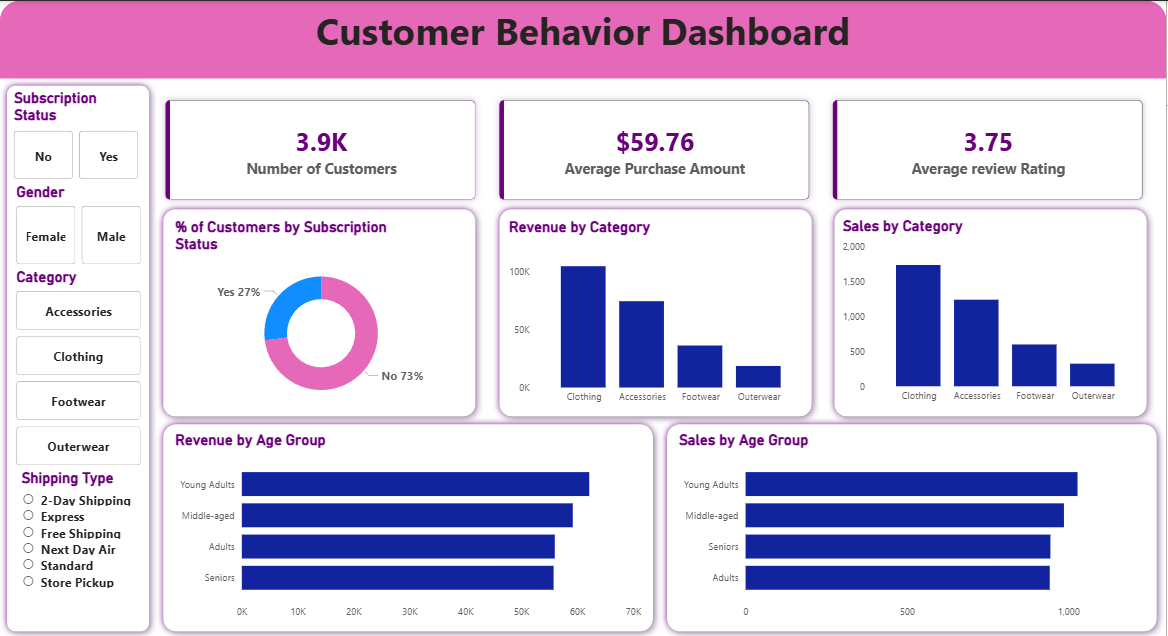

What the dashboard file says about the page in this screenshot:
{"tool":"powerbi","page":{"name":"Page 1","canvas":[1500,820],"ordinal":0},"visuals":[{"type":"cardVisual","fields":{"Data":["customer_behavior customer.Number of Customers","customer_behavior customer.Average Purchase Amount","customer_behavior customer.Average review Rating"]},"box":[184.9,99.7,1315.4,184.9],"z":0},{"type":"shape","box":[0,0,1500.3,99.7],"z":1000},{"type":"textbox","box":[0,0,1500.3,99.7],"z":2000},{"type":"shape","box":[201,258.4,419.7,284.6],"z":3000},{"type":"donutChart","title":"% of Customers by Subscription Status","fields":{"Category":["customer_behavior customer.subscription_status"],"Y":["CountNonNull(customer_behavior customer.customer_id)"]},"box":[220.3,279.3,385.9,247.6],"z":4000},{"type":"shape","box":[632.8,258.4,419.7,284.6],"z":5000},{"type":"shape","box":[1064.5,258.4,419.7,284.6],"z":6000},{"type":"clusteredColumnChart","title":"Revenue by Category","fields":{"Y":["Sum(customer_behavior customer.purchase_amount)"],"Category":["customer_behavior customer.category"]},"box":[649.7,279.3,392.4,247.6],"z":7000},{"type":"clusteredColumnChart","title":"Sales by Category","fields":{"Category":["customer_behavior customer.category"],"Y":["CountNonNull(customer_behavior customer.customer_id)"]},"box":[1079,277.7,392.4,247.6],"z":8000},{"type":"shape","box":[0,99.7,201,720.4],"z":9000},{"type":"advancedSlicerVisual","fields":{"Values":["customer_behavior customer.subscription_status"]},"box":[12.9,114.2,170.5,120.6],"z":10000},{"type":"advancedSlicerVisual","fields":{"Values":["customer_behavior customer.gender"]},"box":[16.1,234.8,170.5,109.3],"z":11000},{"type":"advancedSlicerVisual","fields":{"Values":["customer_behavior customer.category"]},"box":[16.1,344.1,170.5,258.9],"z":12000},{"type":"listSlicer","fields":{"Values":["customer_behavior customer.shipping_type"]},"box":[22.5,603,152.8,205.8],"z":13000},{"type":"shape","box":[201,535.5,648.1,284.6],"z":14000},{"type":"clusteredBarChart","title":"Revenue by Age Group","fields":{"Y":["Sum(customer_behavior customer.purchase_amount)"],"Category":["customer_behavior customer.age_group"]},"box":[220.3,553.2,609.5,250.9],"z":15000},{"type":"shape","box":[849.1,535.5,648.1,284.6],"z":16000},{"type":"clusteredBarChart","title":"Sales by Age Group","fields":{"Y":["CountNonNull(customer_behavior customer.customer_id)"],"Category":["customer_behavior customer.age_group"]},"box":[868.4,553.2,609.5,250.9],"z":17000}]}

Visuals, with their boxes in screenshot pixels (x1, y1, x2, y2), scaled from the page's 1500x820 canvas onto the 1168x636 screenshot:
cardVisual - customer_behavior customer.Number of Customers x customer_behavior customer.Average Purchase Amount: 144, 77, 1167, 221
shape: 0, 0, 1167, 77
textbox: 0, 0, 1167, 77
shape: 157, 200, 483, 421
"% of Customers by Subscription Status" donutChart: 172, 217, 472, 409
shape: 493, 200, 820, 421
shape: 829, 200, 1156, 421
"Revenue by Category" clusteredColumnChart: 506, 217, 811, 409
"Sales by Category" clusteredColumnChart: 840, 215, 1146, 407
shape: 0, 77, 157, 635
advancedSlicerVisual - customer_behavior customer.subscription_status: 10, 89, 143, 182
advancedSlicerVisual - customer_behavior customer.gender: 13, 182, 145, 267
advancedSlicerVisual - customer_behavior customer.category: 13, 267, 145, 468
listSlicer - customer_behavior customer.shipping_type: 18, 468, 137, 627
shape: 157, 415, 661, 635
"Revenue by Age Group" clusteredBarChart: 172, 429, 646, 624
shape: 661, 415, 1166, 635
"Sales by Age Group" clusteredBarChart: 676, 429, 1151, 624
